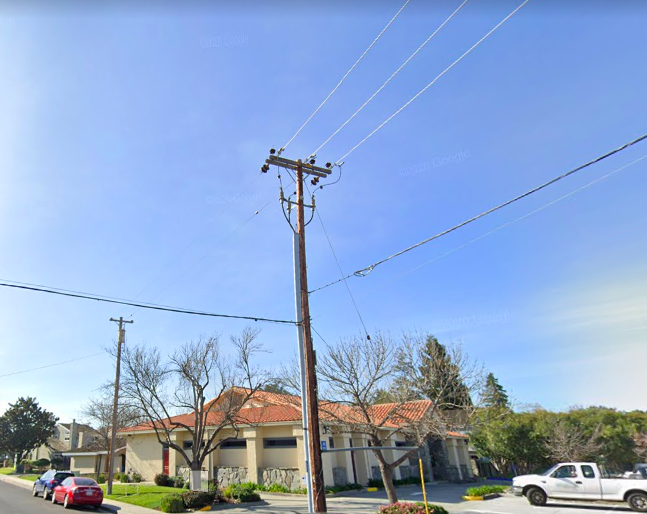utility_pole: (253, 141, 341, 218)
